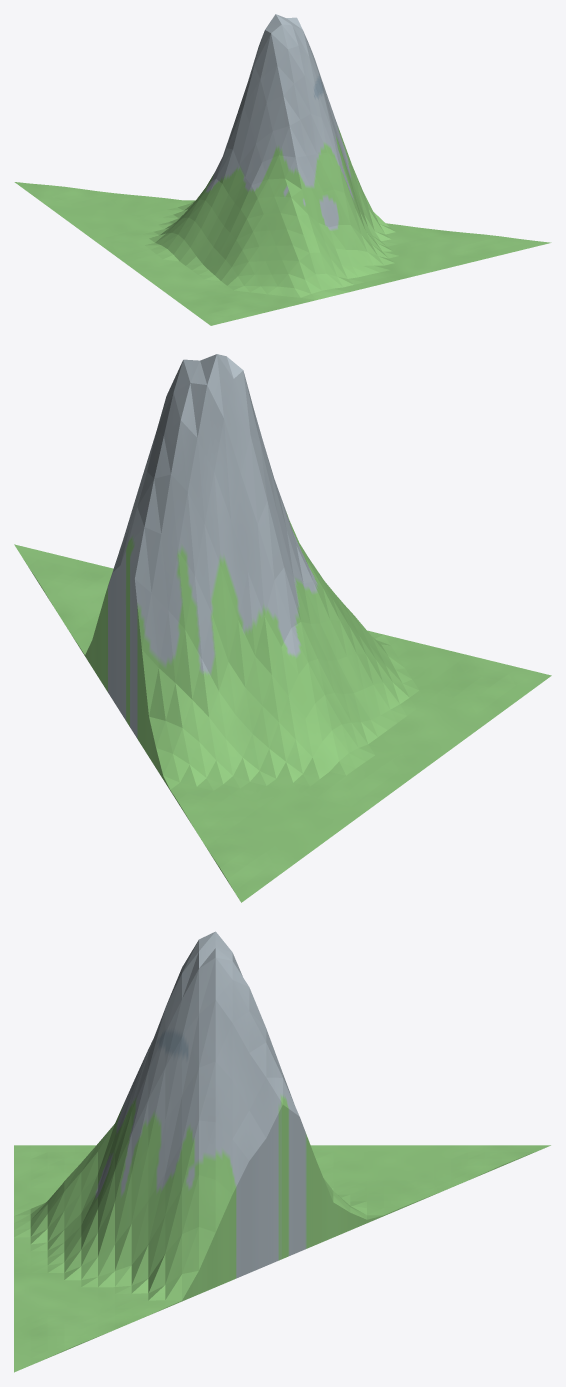
The model's file is Grass_RockyMountains_10_NW.obj.
3 renders of one model, top to bottom at view 1: azimuth 30°, elevation 25°; view 2: azimuth 150°, elevation 25°; view 3: azimuth 270°, elevation 25°, orthographic. The views are drawn at different scales.
Bounding box in the file's own units: 10 × 6.28 × 10.
1 material, 1 textured.
